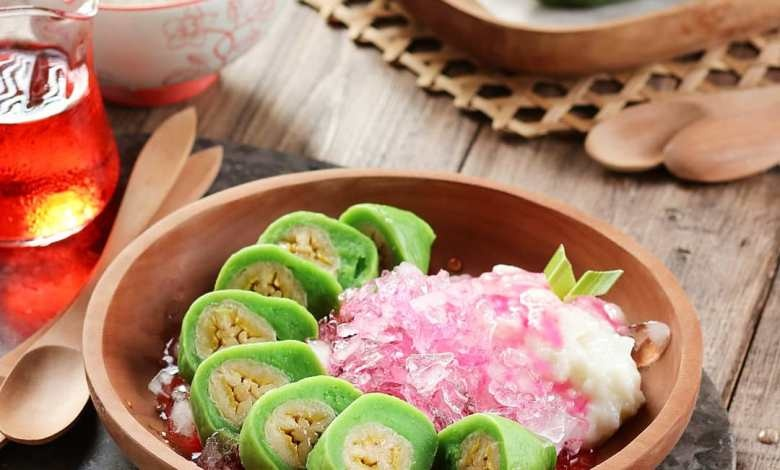es_pisang_ijo: (155, 204, 643, 470)
